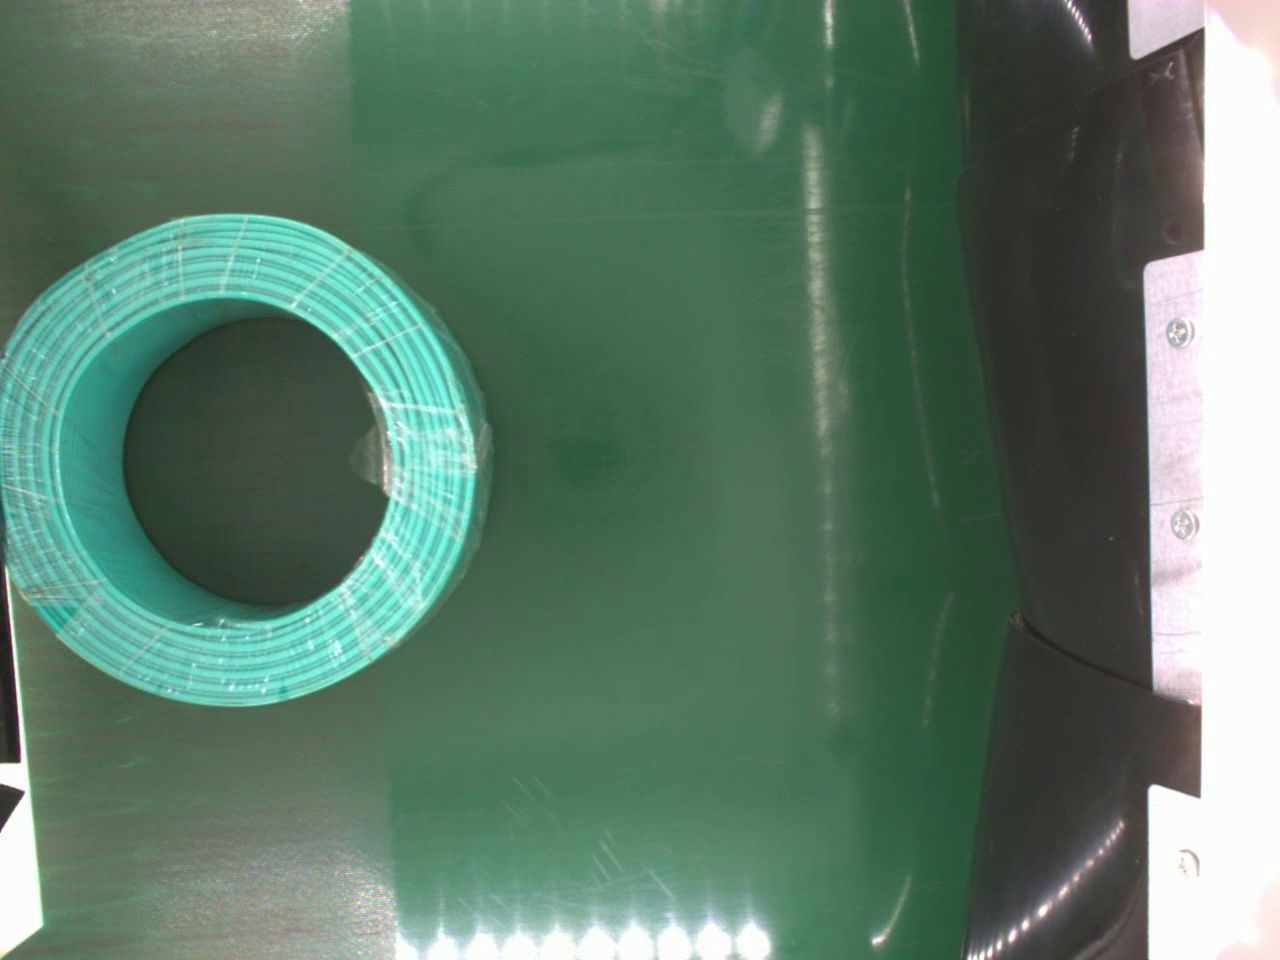green: (0, 210, 493, 710)
